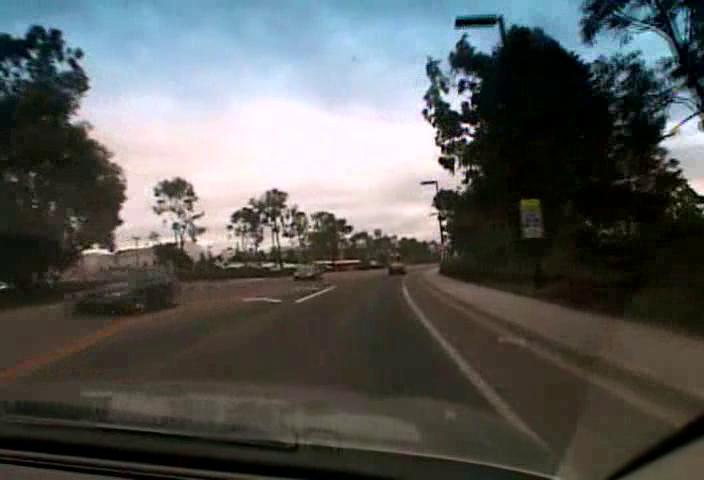schoolSpeedLimit25: (520, 197, 543, 238)
